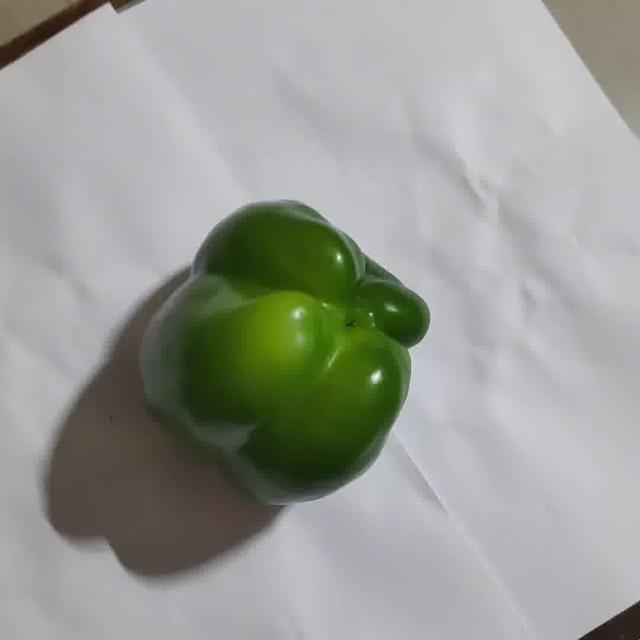Bell Pepper: (141, 201, 429, 505)
